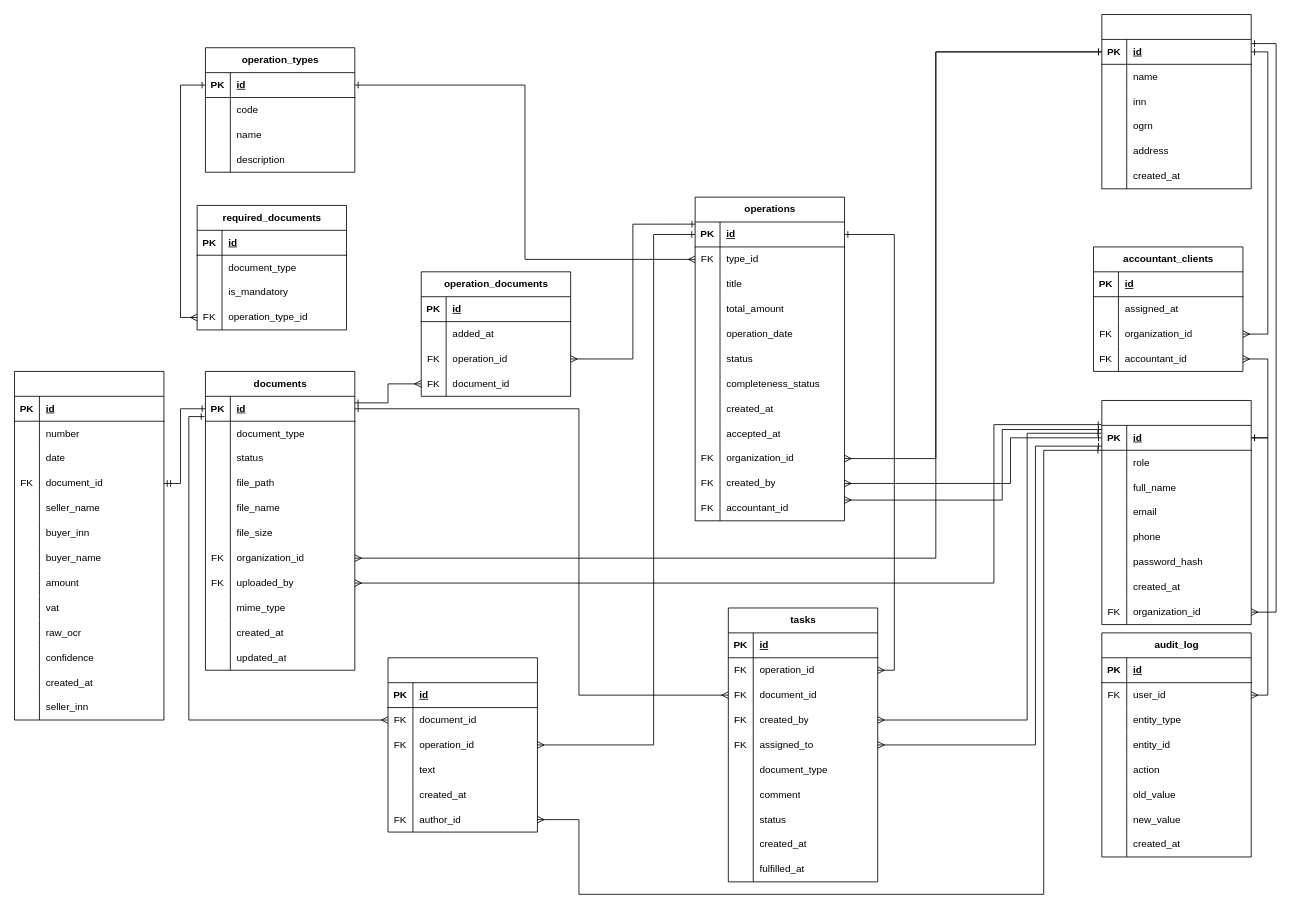
Image size: 1298x916. Some labels were removed from this diagram. Here are the shapes that lost their labels. From the top down, the box of each, then its label:
(1101, 14, 1251, 189): organizations
(1101, 400, 1251, 625): users
(14, 371, 164, 720): document_data
(387, 657, 537, 832): comments
